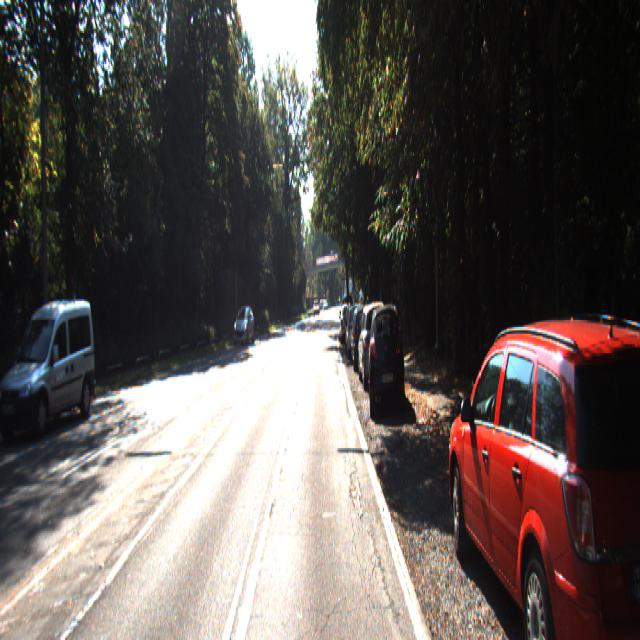Car: (442, 308, 640, 638), (0, 294, 100, 443), (368, 298, 405, 414), (358, 304, 393, 390), (351, 305, 375, 373), (347, 306, 369, 362), (233, 305, 255, 345), (340, 304, 354, 345)
